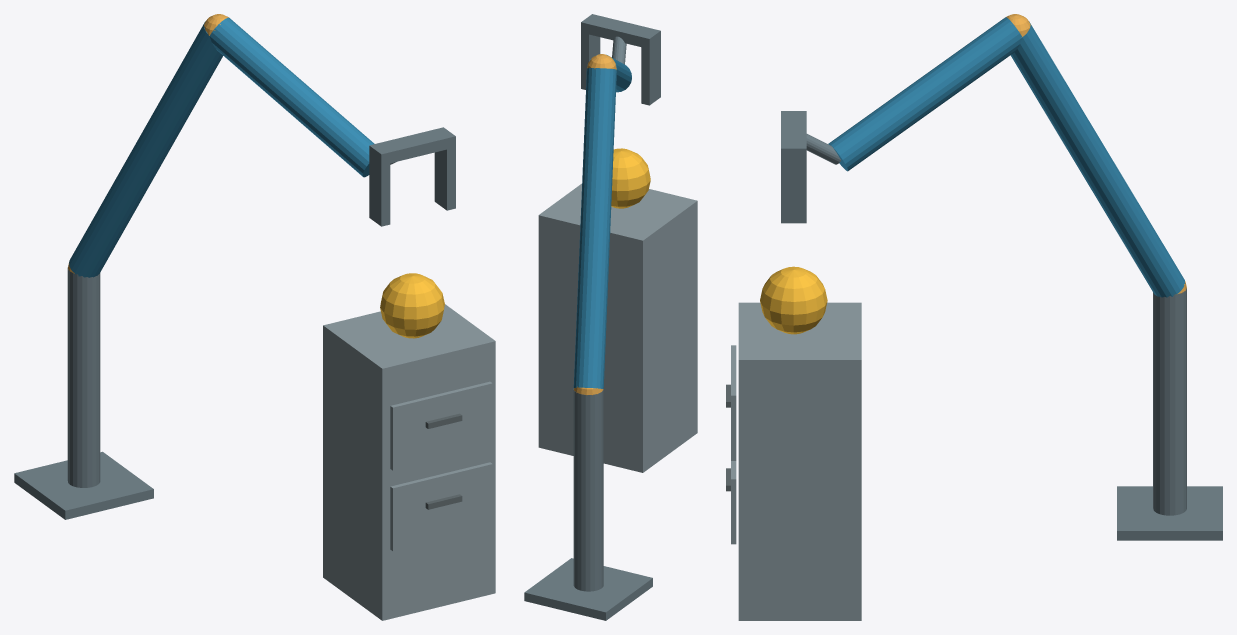
The picture shows the model from 3 angles, left to right: view 1: azimuth 30°, elevation 25°; view 2: azimuth 150°, elevation 25°; view 3: azimuth 270°, elevation 25°; orthographic projection. The views are drawn at different scales.
Parts seen in each view (by area): view 1: cabinet_1 body, moving link 1, fixed post, moving link 2, cabinet_1 drawer front.001, cabinet_1 drawer front, pedestal, ball ball_1, gripper bridge, gripper finger -1, gripper finger 1; view 2: cabinet_1 body, moving link 1, fixed post, pedestal, ball ball_1, gripper bridge, gripper finger -1, gripper finger 1, moving link 2, joint 2, gripper wrist connector; view 3: cabinet_1 body, moving link 1, moving link 2, fixed post, pedestal, ball ball_1, gripper finger 1, gripper bridge, cabinet_1 drawer front.001.
Part boxes in pixels (x1=…): cabinet_1 body: x1=323, y1=304, x2=495, y2=620; moving link 1: x1=69, y1=21, x2=222, y2=277; fixed post: x1=67, y1=267, x2=100, y2=487; moving link 2: x1=209, y1=17, x2=374, y2=177; cabinet_1 drawer front.001: x1=390, y1=381, x2=492, y2=470; cabinet_1 drawer front: x1=390, y1=462, x2=492, y2=551; pedestal: x1=14, y1=451, x2=153, y2=519; ball ball_1: x1=380, y1=273, x2=444, y2=338; gripper bridge: x1=369, y1=127, x2=455, y2=165; gripper finger -1: x1=369, y1=157, x2=390, y2=226; gripper finger 1: x1=434, y1=147, x2=455, y2=210; cabinet_1 body: x1=538, y1=183, x2=697, y2=472; moving link 1: x1=573, y1=68, x2=616, y2=389; fixed post: x1=573, y1=389, x2=603, y2=591; pedestal: x1=524, y1=558, x2=652, y2=620; ball ball_1: x1=611, y1=148, x2=650, y2=208; gripper bridge: x1=581, y1=14, x2=660, y2=49; gripper finger -1: x1=641, y1=41, x2=660, y2=105; gripper finger 1: x1=581, y1=32, x2=600, y2=89; moving link 2: x1=589, y1=54, x2=631, y2=92; joint 2: x1=587, y1=54, x2=616, y2=69; gripper wrist connector: x1=612, y1=36, x2=626, y2=64; cabinet_1 body: x1=738, y1=302, x2=861, y2=620; moving link 1: x1=1010, y1=21, x2=1185, y2=297; moving link 2: x1=828, y1=17, x2=1022, y2=171; fixed post: x1=1153, y1=288, x2=1186, y2=515; pedestal: x1=1117, y1=486, x2=1222, y2=540; ball ball_1: x1=760, y1=266, x2=827, y2=334; gripper finger 1: x1=781, y1=160, x2=806, y2=223; gripper bridge: x1=781, y1=111, x2=806, y2=159; cabinet_1 drawer front.001: x1=731, y1=345, x2=736, y2=460.
Bounding box in the file's own units: 0.6992 × 1.39 × 1.17.
